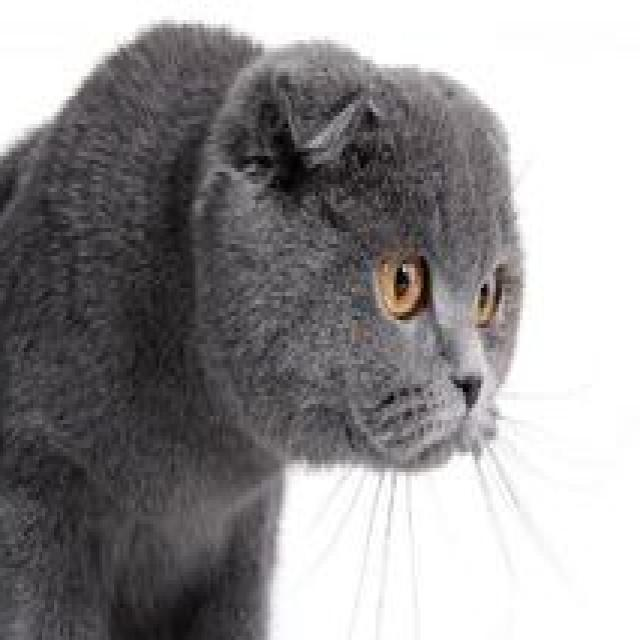Scottish Fold: (0, 12, 529, 640)
